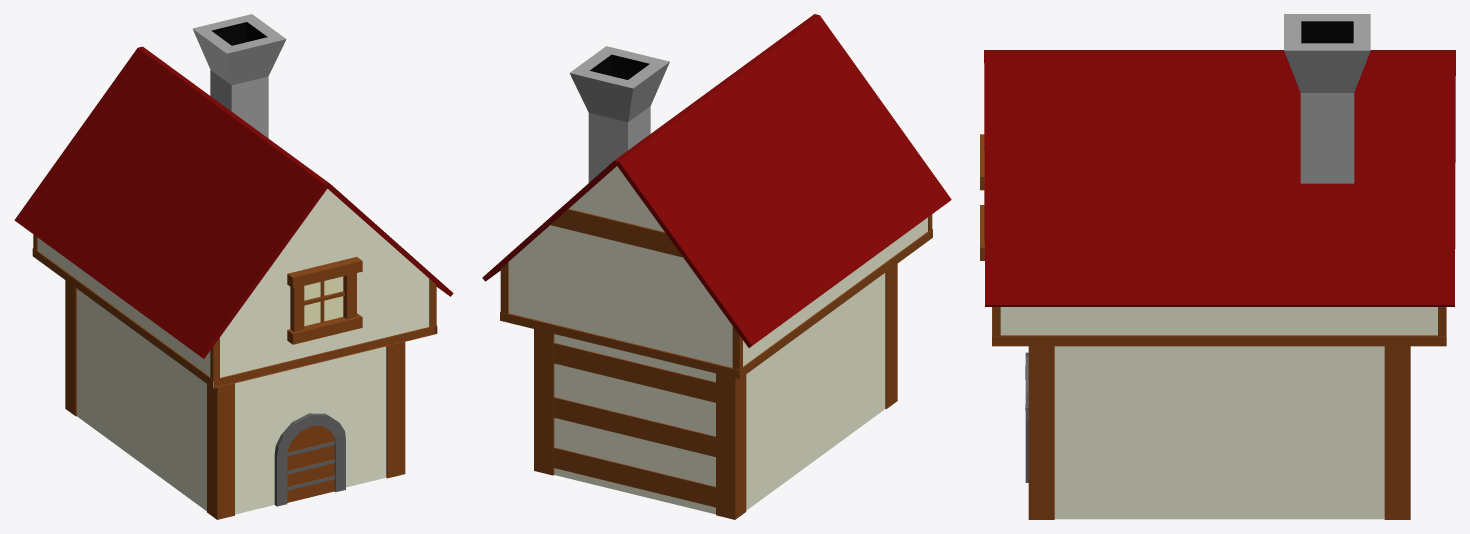
The model's file is CasaMedieval1.fbx.
3 renders of one model, left to right at view 1: azimuth 30°, elevation 25°; view 2: azimuth 150°, elevation 25°; view 3: azimuth 270°, elevation 25°, orthographic. The views are drawn at different scales.
Parts seen in each view (by area): view 1: House1; view 2: House1; view 3: House1.
Part boxes in pixels (<box>): House1: <box>14,14,453,519</box>; House1: <box>482,14,951,519</box>; House1: <box>980,14,1455,519</box>.
Bounding box in the file's own units: 1097 × 1515 × 1423.
